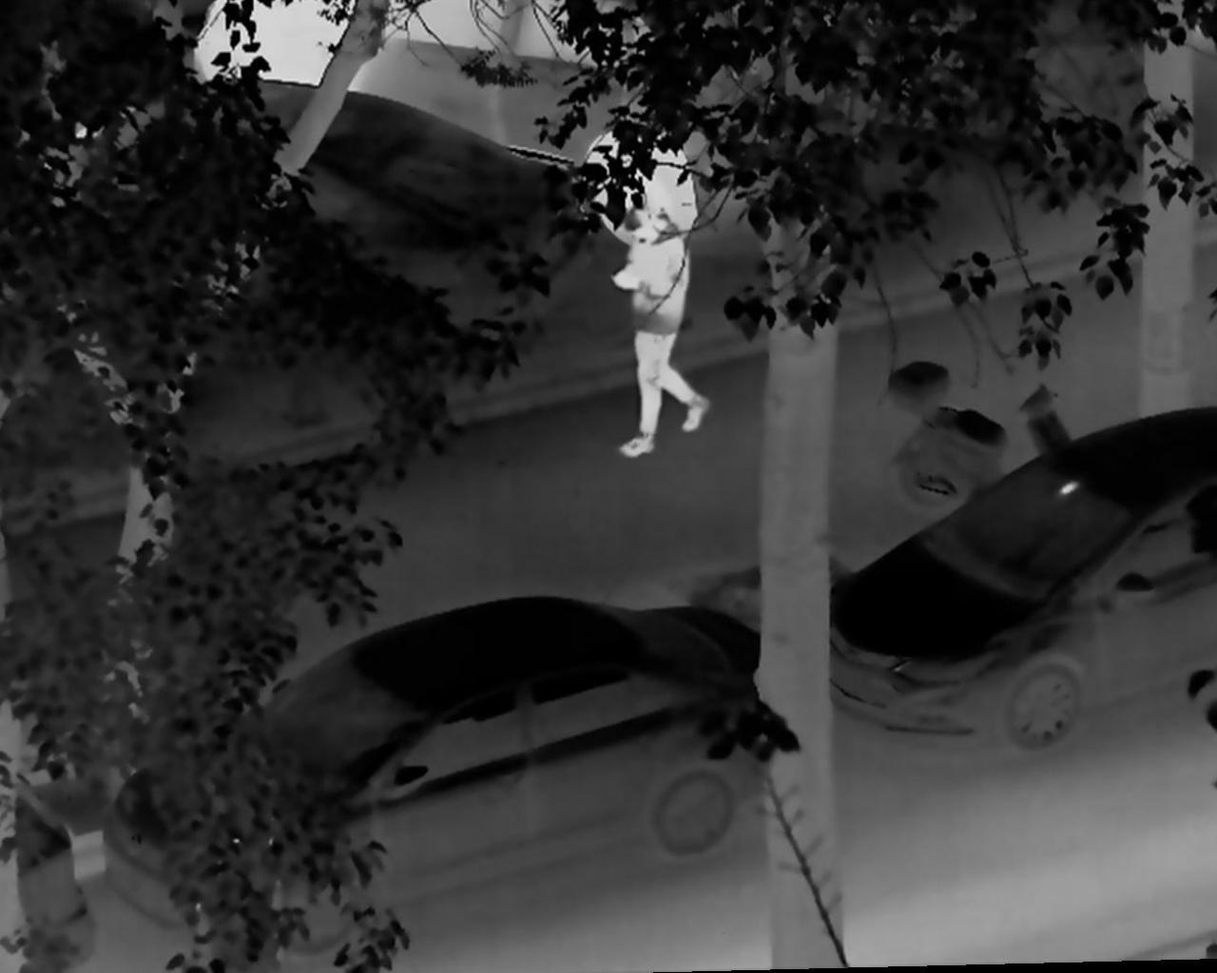person: (607, 201, 711, 463)
